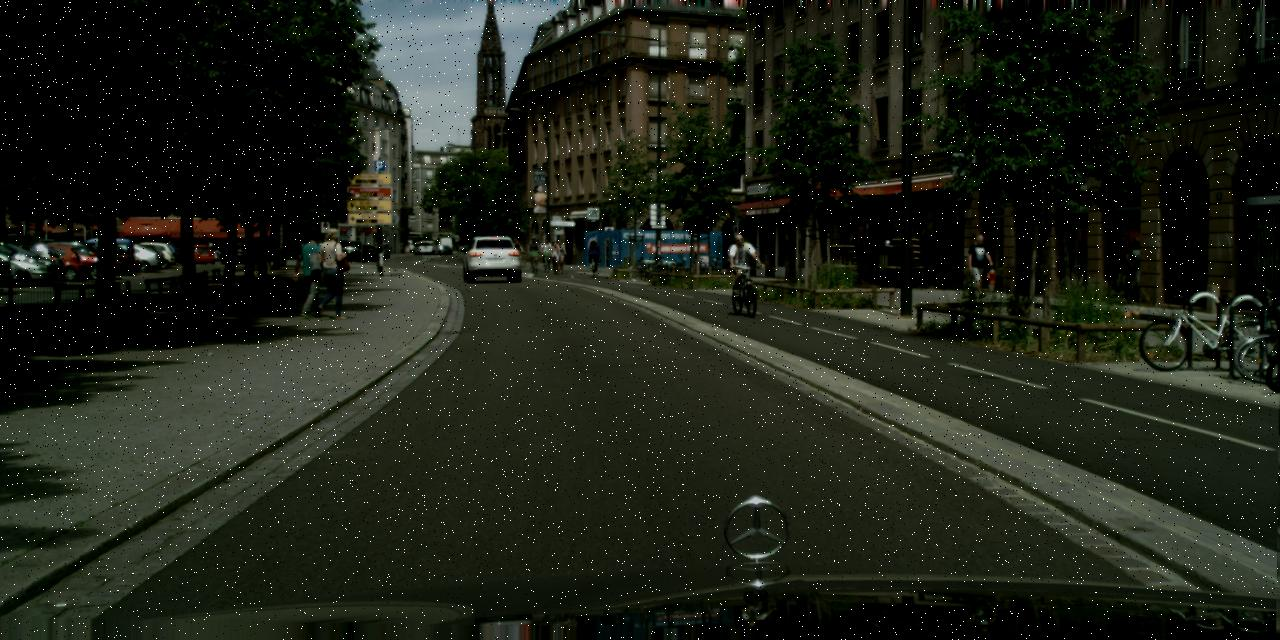ped: (311, 227, 348, 317), (296, 230, 330, 318), (728, 234, 753, 296), (965, 234, 990, 295), (586, 240, 600, 272), (527, 236, 540, 268), (540, 239, 552, 269), (553, 238, 565, 268), (511, 237, 522, 264), (550, 242, 560, 270)
